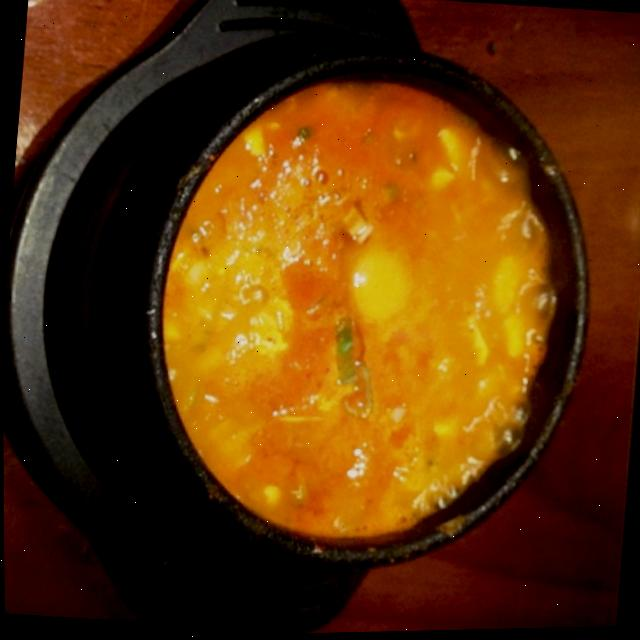汤锅炖物: (0, 8, 578, 640)
